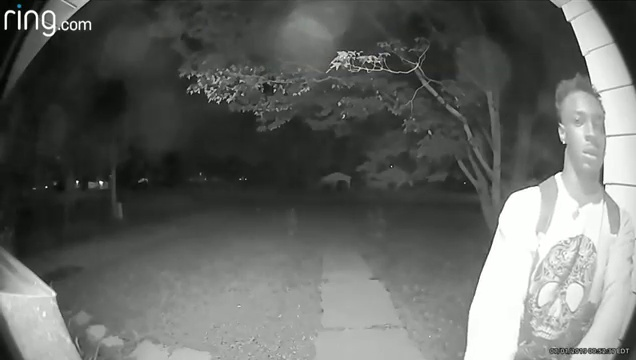face: (563, 105, 607, 165)
